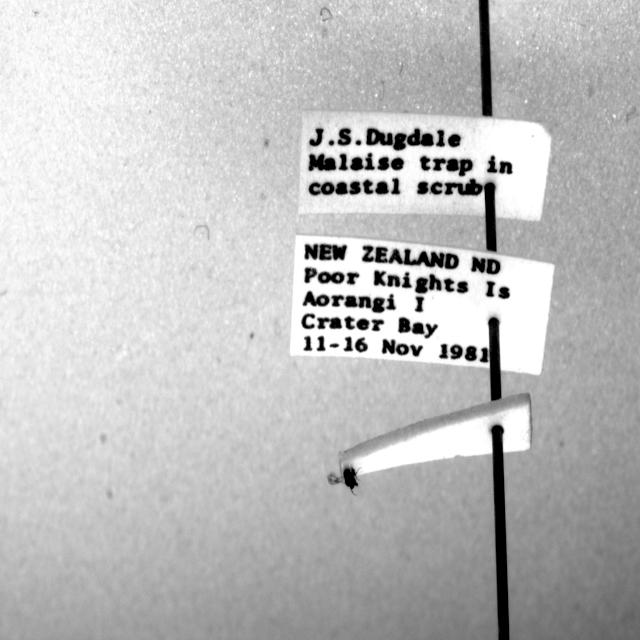typed_label: (290, 234, 554, 375), (299, 111, 551, 221)
